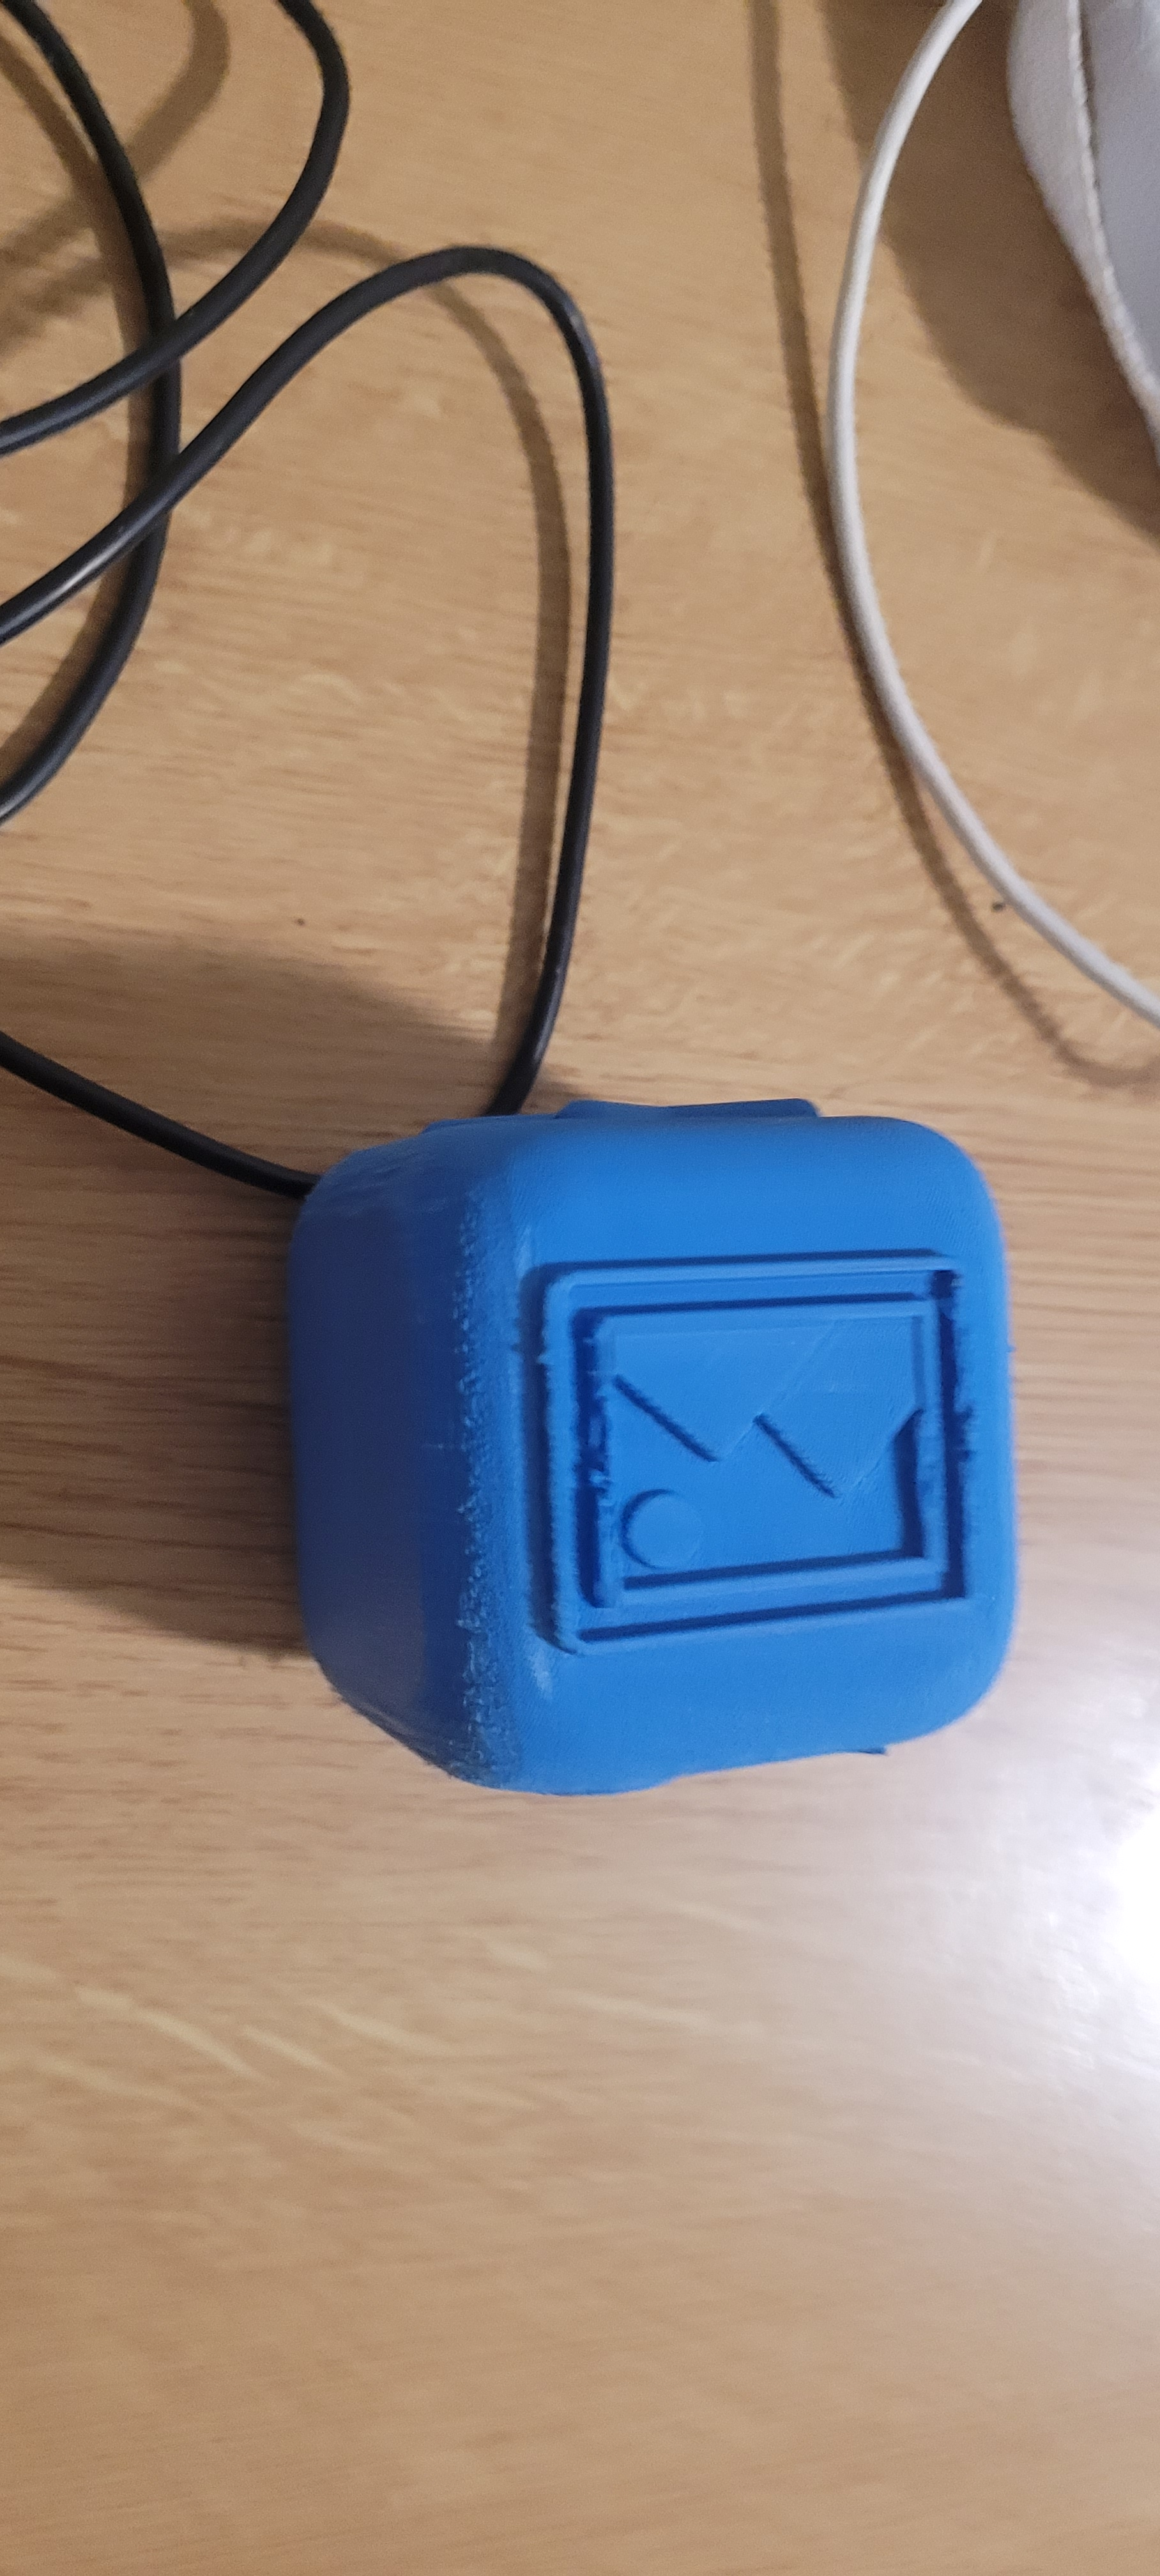Story: (513, 1216, 1010, 1640)
